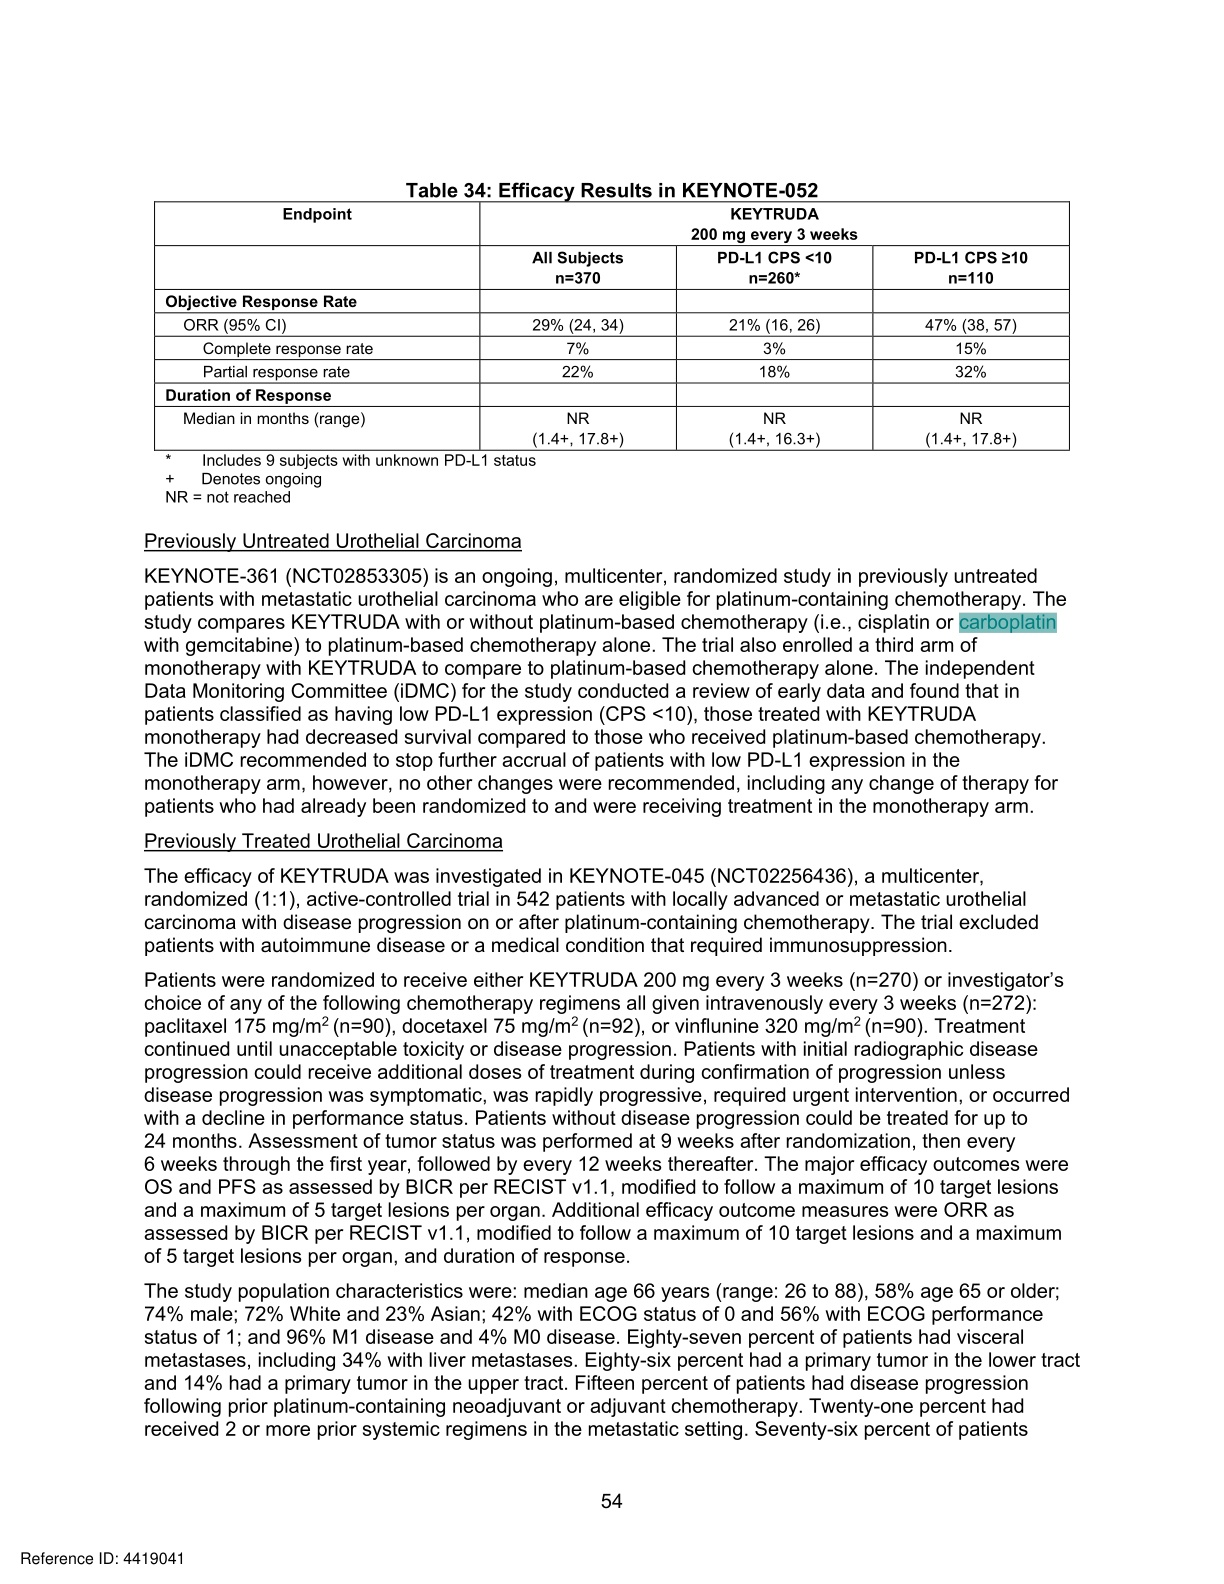merged_cells: (152, 199, 1071, 451)
